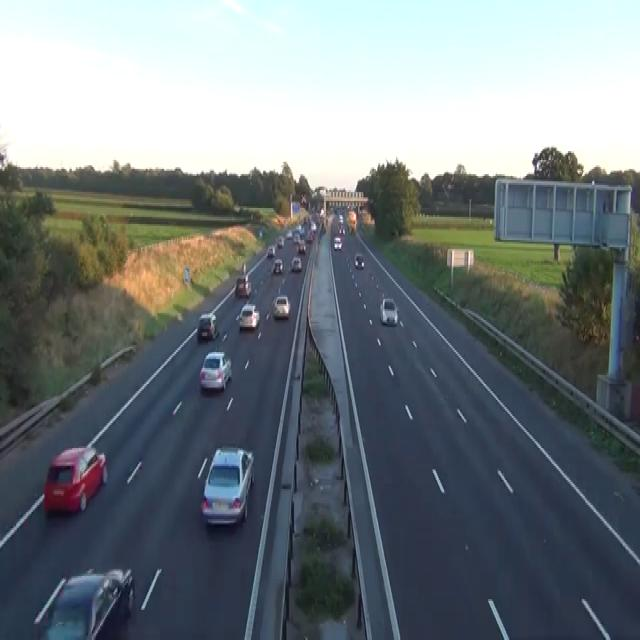Car: (33, 566, 134, 638), (44, 444, 107, 516), (200, 444, 254, 526), (199, 350, 232, 391), (236, 302, 259, 329), (197, 311, 217, 340), (379, 297, 398, 325), (272, 295, 290, 318), (234, 275, 251, 297), (271, 258, 283, 274), (290, 256, 301, 272), (354, 252, 364, 268), (333, 234, 342, 250), (297, 240, 306, 252), (267, 245, 275, 258), (276, 235, 284, 247), (292, 231, 299, 244), (306, 229, 313, 242), (300, 192, 306, 204), (310, 221, 316, 231), (285, 230, 292, 238), (320, 206, 324, 219), (339, 226, 345, 234), (338, 214, 343, 222), (258, 228, 262, 236)
Truck: (346, 210, 356, 233)
